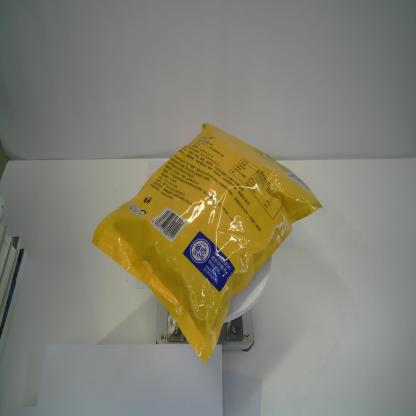Dried Food: (91, 122, 325, 366)
